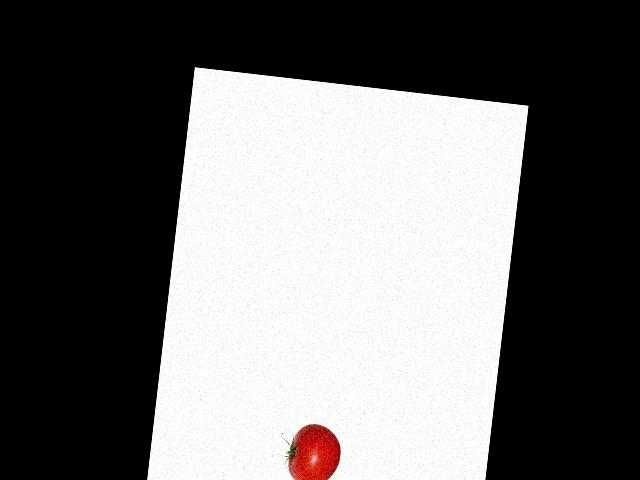tomato: (285, 421, 343, 480)
